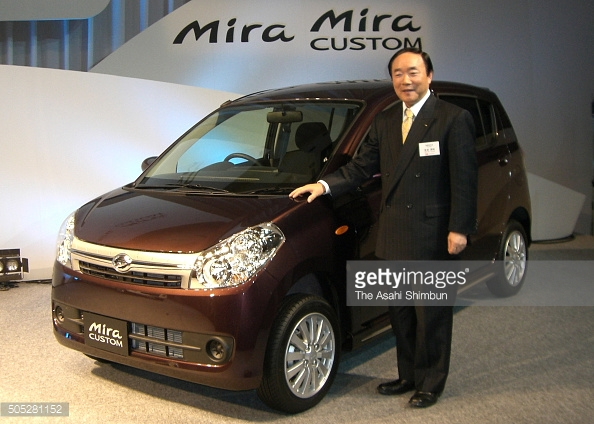em pe: (331, 29, 501, 334)
